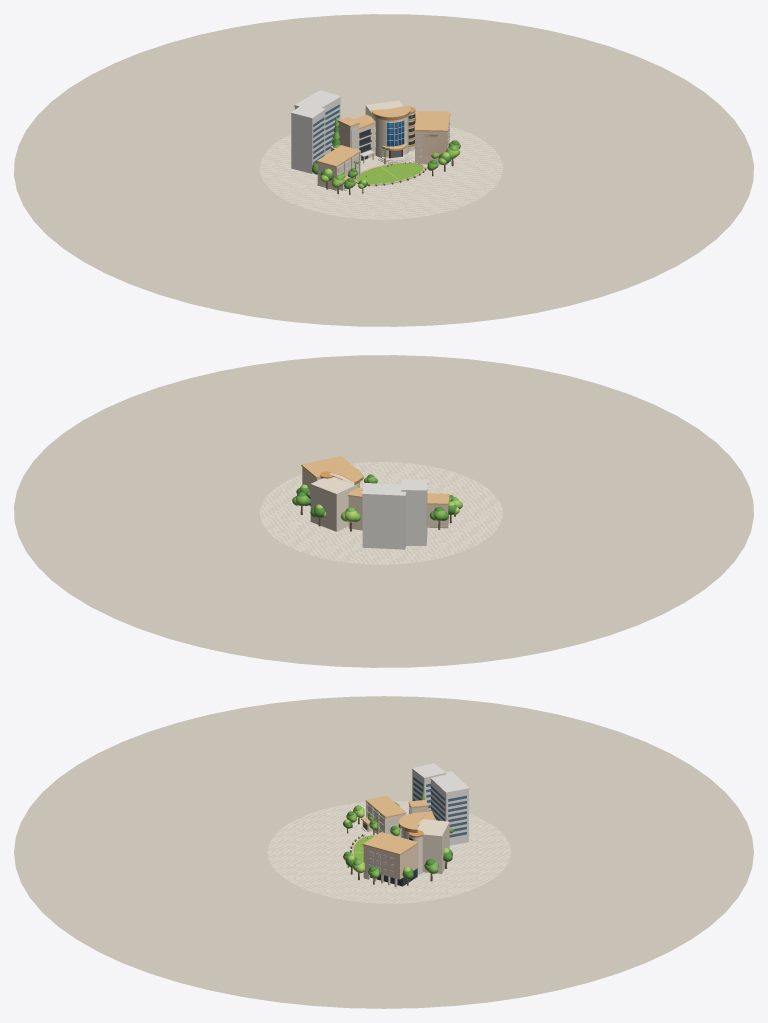
The model's file is christ_university_3d_model.glb.
3 renders of one model, top to bottom at view 1: azimuth 30°, elevation 25°; view 2: azimuth 150°, elevation 25°; view 3: azimuth 270°, elevation 25°, orthographic.
Visible parts, largest first — view 1: courtyard, back-tower, rotunda, christ-block, balcony-wing, left-wing; view 2: courtyard, back-tower, rotunda, christ-block, left-wing; view 3: courtyard, back-tower, christ-block, rotunda, left-wing.
Part boxes in pixels (x1=…): courtyard: x1=14, y1=14, x2=753, y2=326; back-tower: x1=291, y1=90, x2=341, y2=173; rotunda: x1=365, y1=100, x2=416, y2=163; christ-block: x1=414, y1=111, x2=450, y2=164; balcony-wing: x1=330, y1=114, x2=375, y2=163; left-wing: x1=317, y1=145, x2=360, y2=190; courtyard: x1=14, y1=355, x2=753, y2=667; back-tower: x1=362, y1=479, x2=427, y2=549; rotunda: x1=310, y1=467, x2=361, y2=531; christ-block: x1=301, y1=456, x2=356, y2=505; left-wing: x1=427, y1=493, x2=449, y2=528; courtyard: x1=14, y1=696, x2=753, y2=1008; back-tower: x1=412, y1=763, x2=469, y2=845; christ-block: x1=362, y1=832, x2=418, y2=887; rotunda: x1=399, y1=813, x2=449, y2=874; left-wing: x1=361, y1=795, x2=406, y2=837.
Bounding box in the file's own units: 280 × 23.43 × 280.
Materials: 54 (4 with a texture image).
